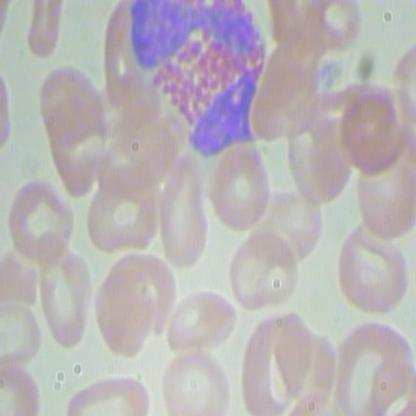Platelets: (316, 54, 348, 88)
RBC: (33, 60, 112, 151), (335, 222, 411, 315), (337, 88, 413, 181), (226, 223, 302, 313), (159, 153, 216, 271), (236, 307, 298, 415), (36, 231, 91, 352), (89, 266, 159, 359), (203, 140, 273, 233), (85, 179, 165, 254), (5, 181, 78, 258), (167, 284, 238, 356), (159, 353, 236, 415), (265, 186, 322, 258), (309, 1, 367, 57)
WBC: (125, 1, 268, 161)
